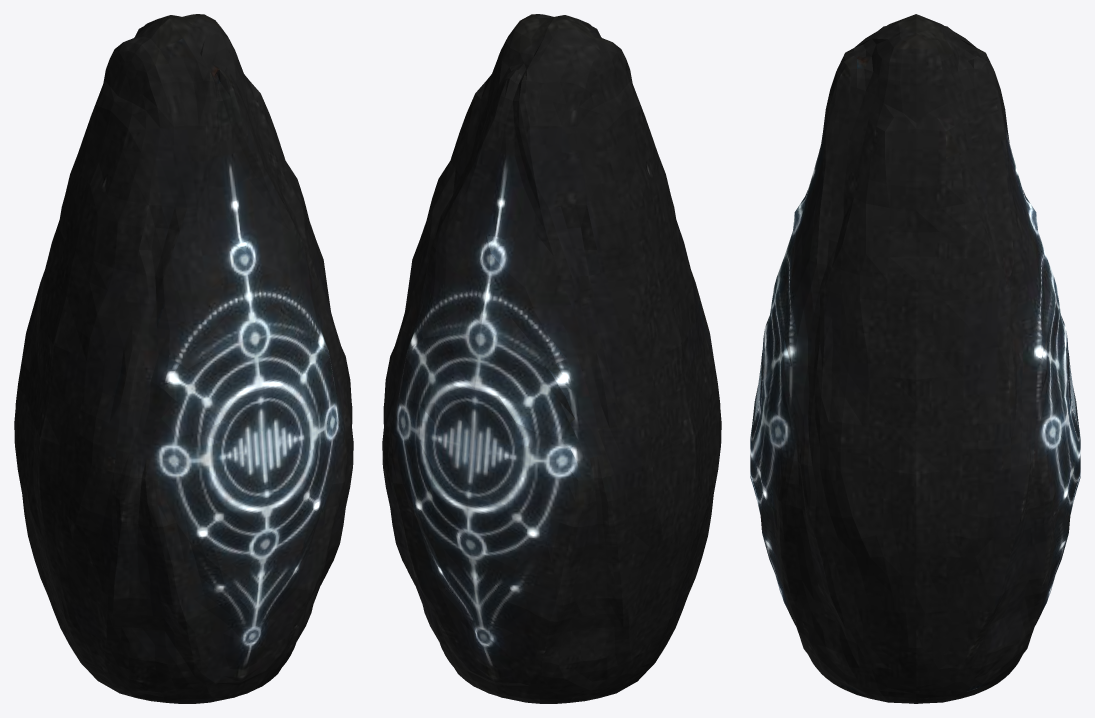
The model's file is glyph_4.glb.
3 renders of one model, left to right at view 1: azimuth 30°, elevation 25°; view 2: azimuth 150°, elevation 25°; view 3: azimuth 270°, elevation 25°, orthographic.
Visible parts, largest first — view 1: Mesh_0; view 2: Mesh_0; view 3: Mesh_0.
Boxes of the visible parts, left/top/right/bottom form: Mesh_0: left=14, top=14, right=353, bottom=703; Mesh_0: left=382, top=14, right=721, bottom=703; Mesh_0: left=750, top=14, right=1080, bottom=703.
Bounding box in the file's own units: 0.8728 × 1.91 × 0.8728.
1 material, 1 textured.
